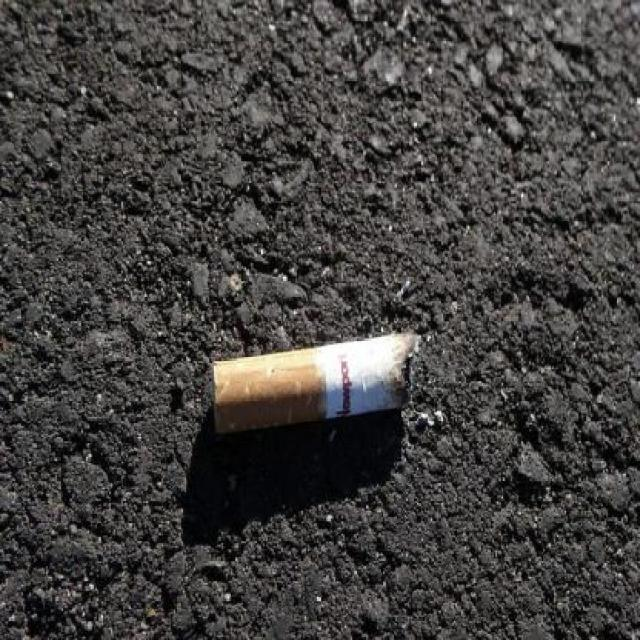cigarette: (179, 353, 430, 438)
